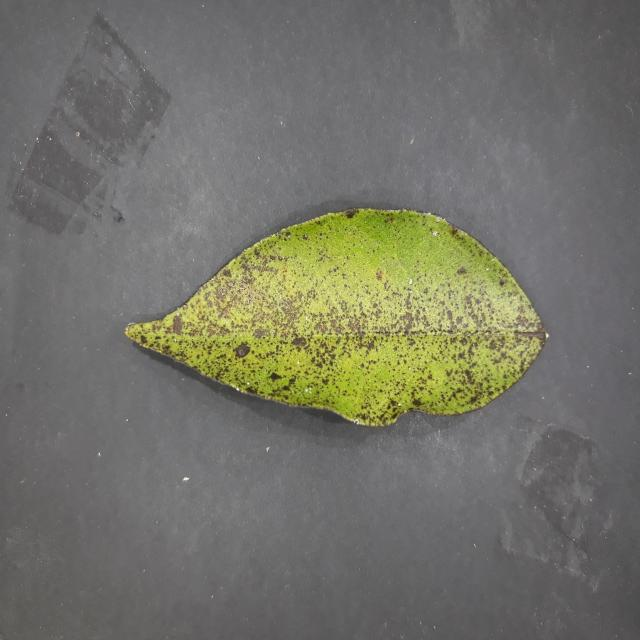greasy_spot: (126, 209, 546, 425)
